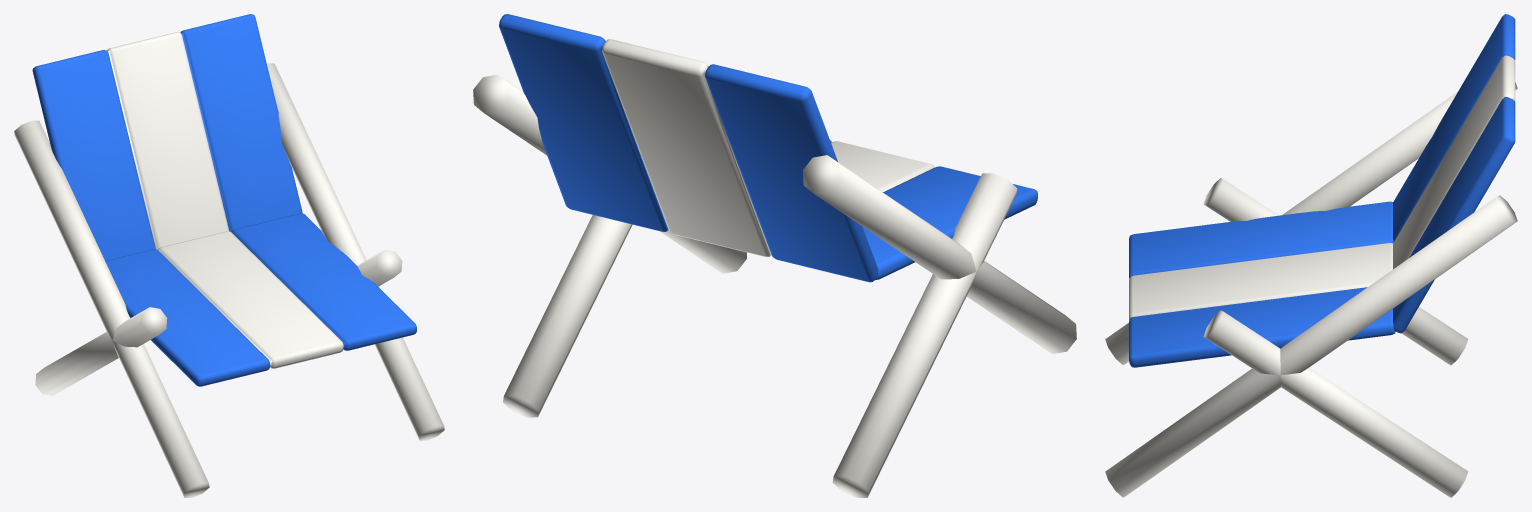
The model's file is chair.glb.
3 views of the same model, side by side, from view 1: azimuth 30°, elevation 25°; view 2: azimuth 150°, elevation 25°; view 3: azimuth 270°, elevation 25° (orthographic). The views are drawn at different scales.
Visible parts, largest first — view 1: Chair; view 2: Chair; view 3: Chair.
Boxes of the visible parts, <box> form: Chair: <box>14,14,444,497</box>; Chair: <box>473,14,1076,497</box>; Chair: <box>1105,14,1517,497</box>.
Bounding box in the file's own units: 0.71 × 0.8022 × 0.8429.
